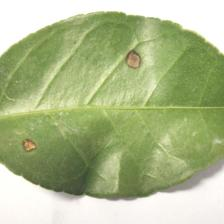canker: (17, 41, 154, 166)
